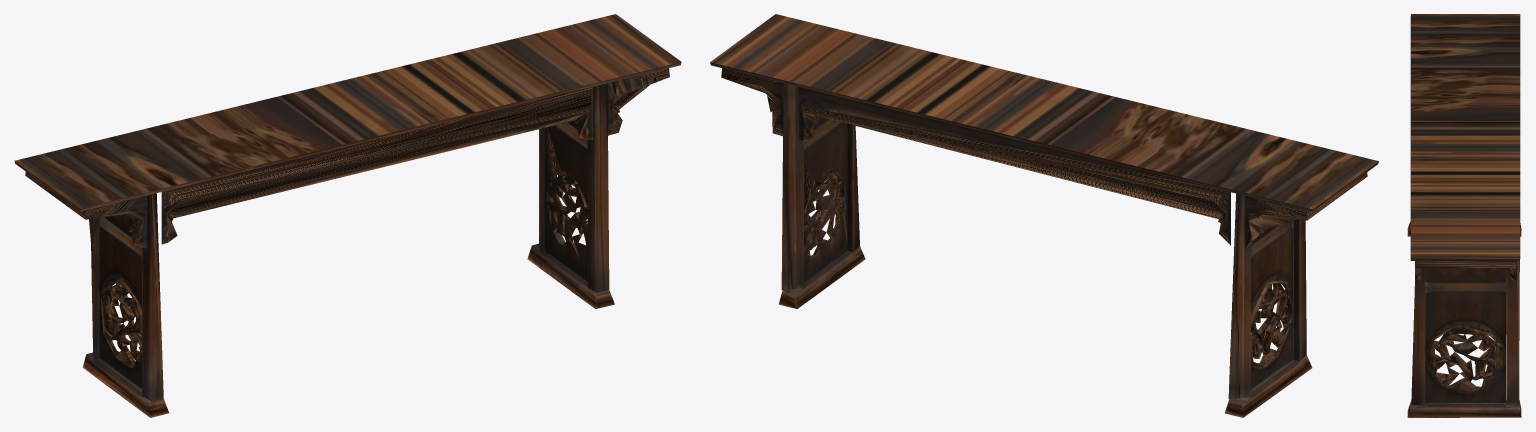
Rendered from cn_console.glb.
The picture shows the model from 3 angles, left to right: view 1: azimuth 30°, elevation 25°; view 2: azimuth 150°, elevation 25°; view 3: azimuth 270°, elevation 25°; orthographic projection. The views are drawn at different scales.
Visible parts, largest first — view 1: cn_console; view 2: cn_console; view 3: cn_console.
Boxes of the visible parts, x1=… form: cn_console: x1=14, y1=14, x2=681, y2=417; cn_console: x1=710, y1=14, x2=1378, y2=417; cn_console: x1=1407, y1=14, x2=1521, y2=417.
Bounding box in the file's own units: 1.69 × 0.6016 × 0.3322.
Materials: 1 (1 with a texture image).
